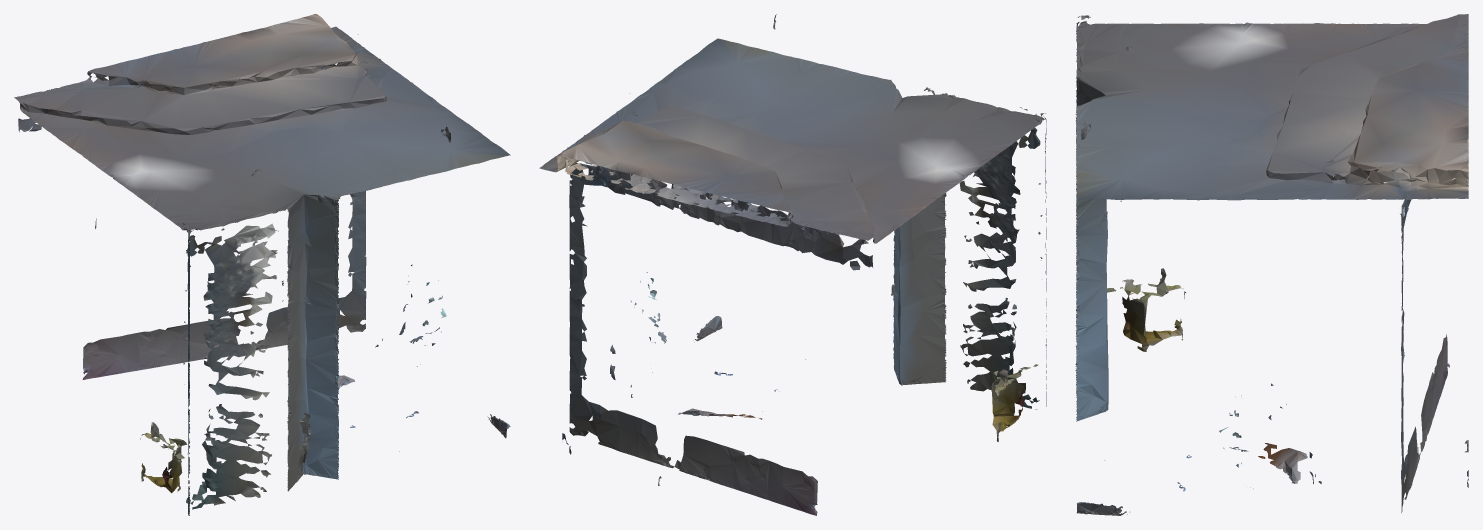
The model's file is coarse.glb.
The picture shows the model from 3 angles, left to right: view 1: azimuth 30°, elevation 25°; view 2: azimuth 150°, elevation 25°; view 3: azimuth 270°, elevation 25°; orthographic projection. The views are drawn at different scales.
Bounding box in the file's own units: 2.49 × 2.39 × 2.35.
